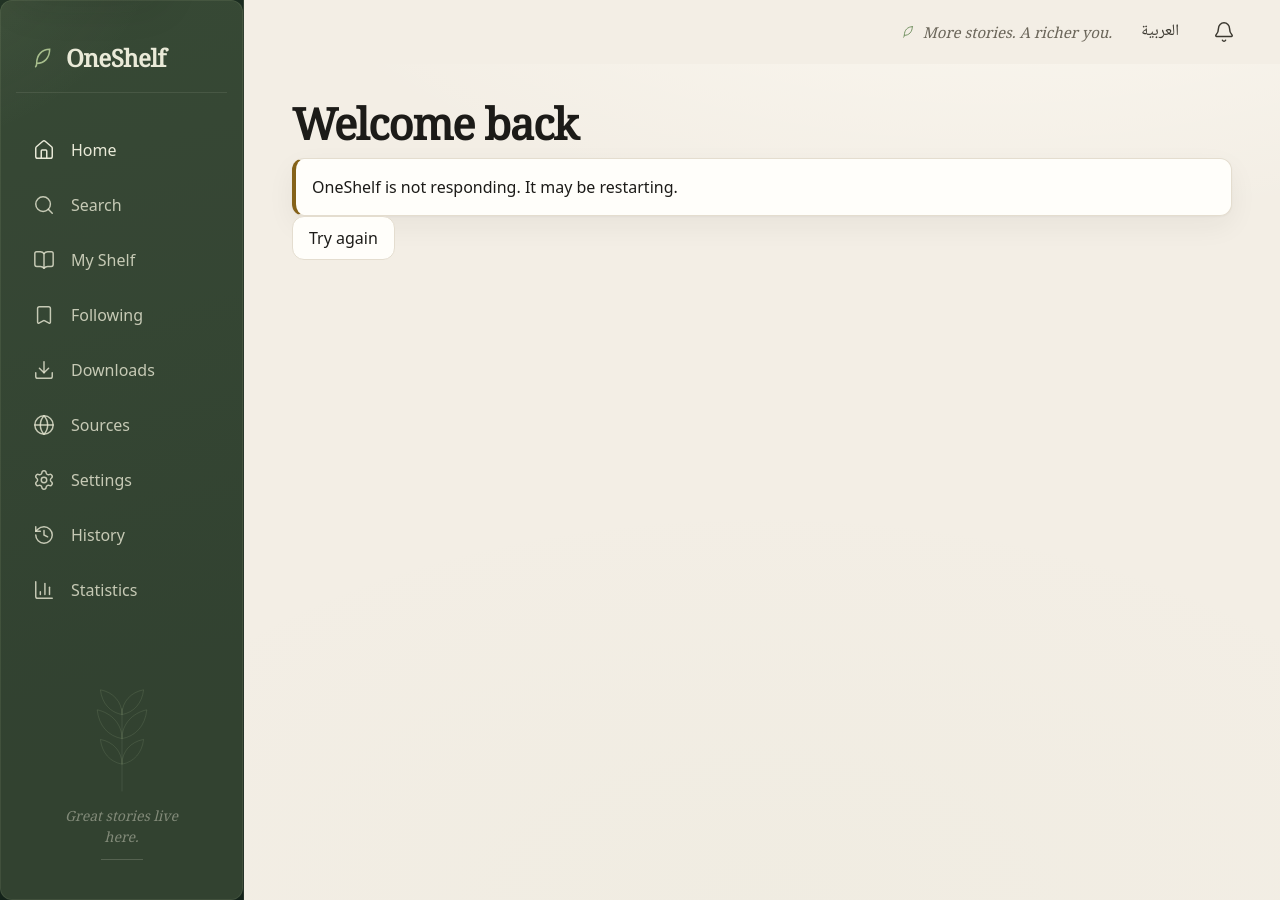
Scenario: application shell › switches language and direction together, and the reader's text direction stays independent
expect the header is shown: met, box [244, 0, 1279, 64]
Click the button "العربية" at coordinates (1160, 32), box [1128, 10, 1192, 54]
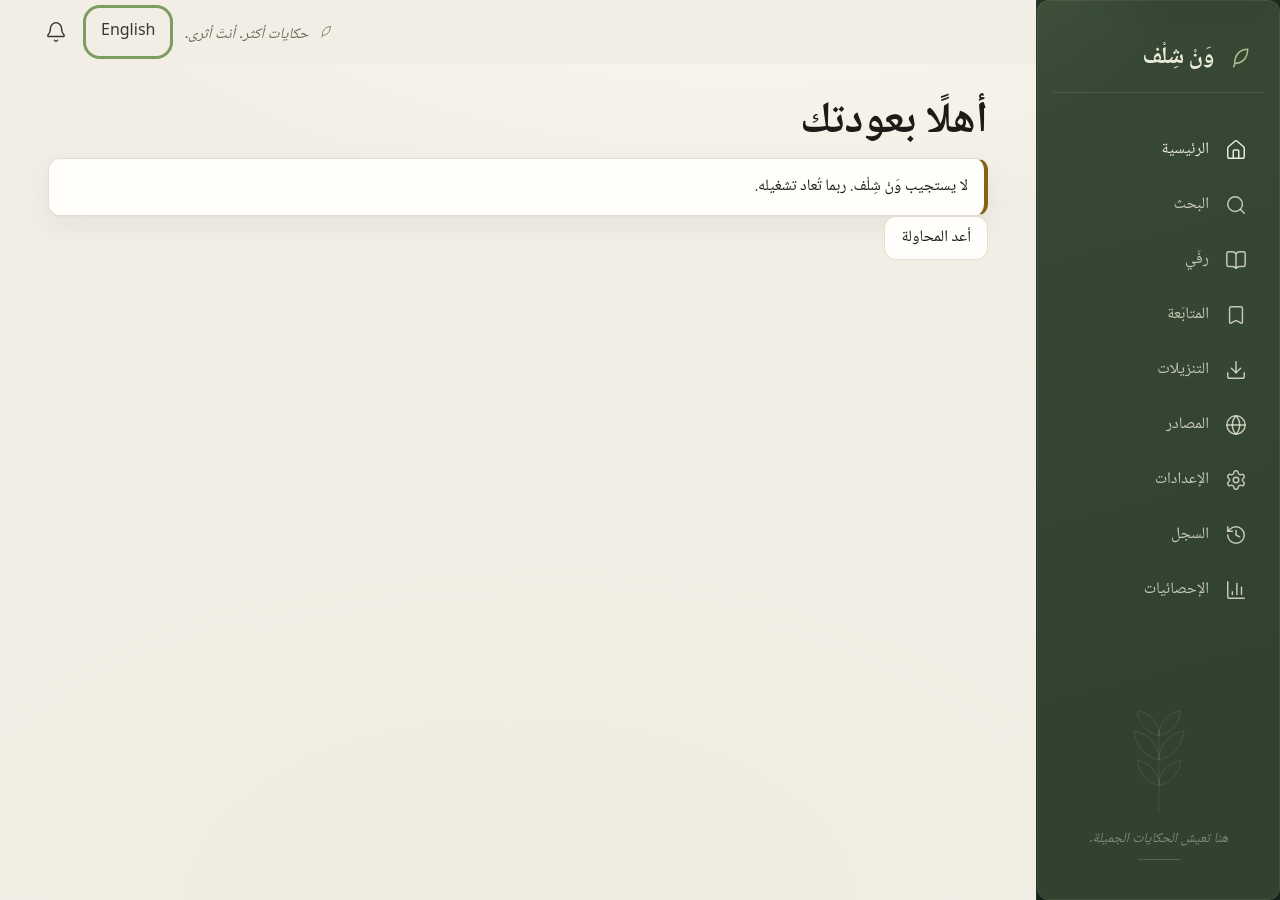
expect the link "الرئيسية" is shown: met, box [1053, 125, 1264, 175]
